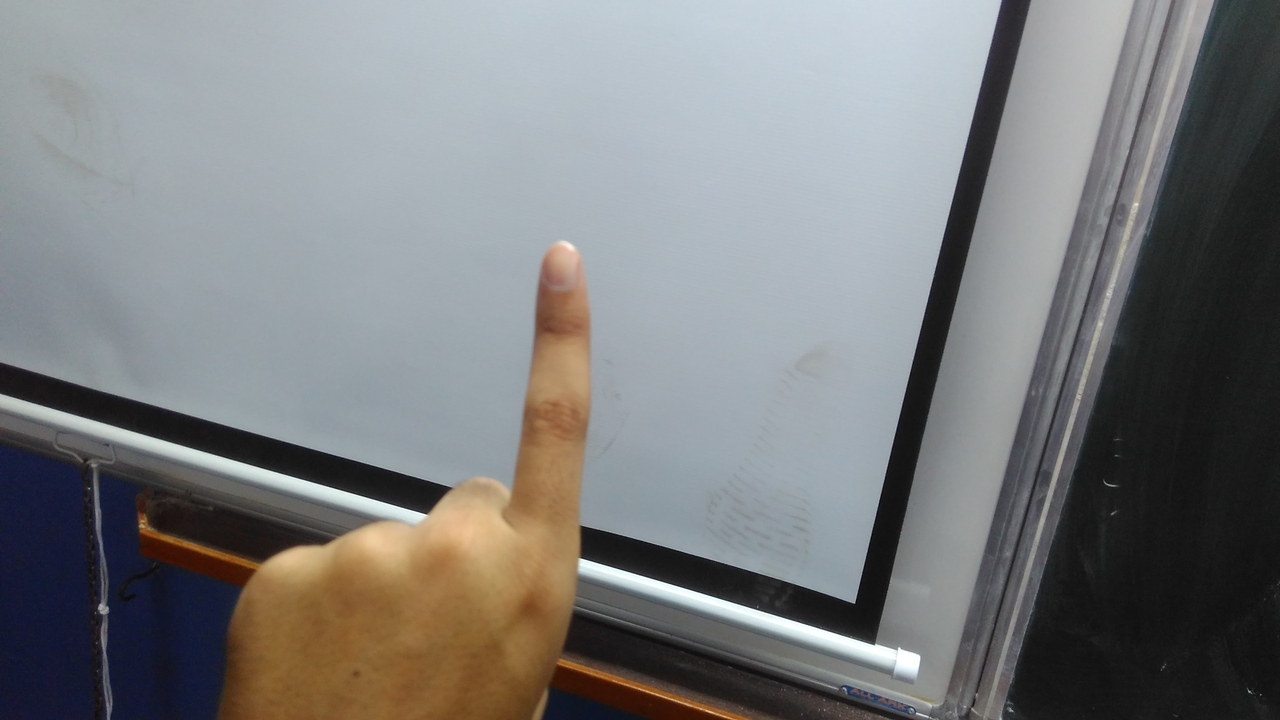fingertip: (534, 232, 590, 292)
